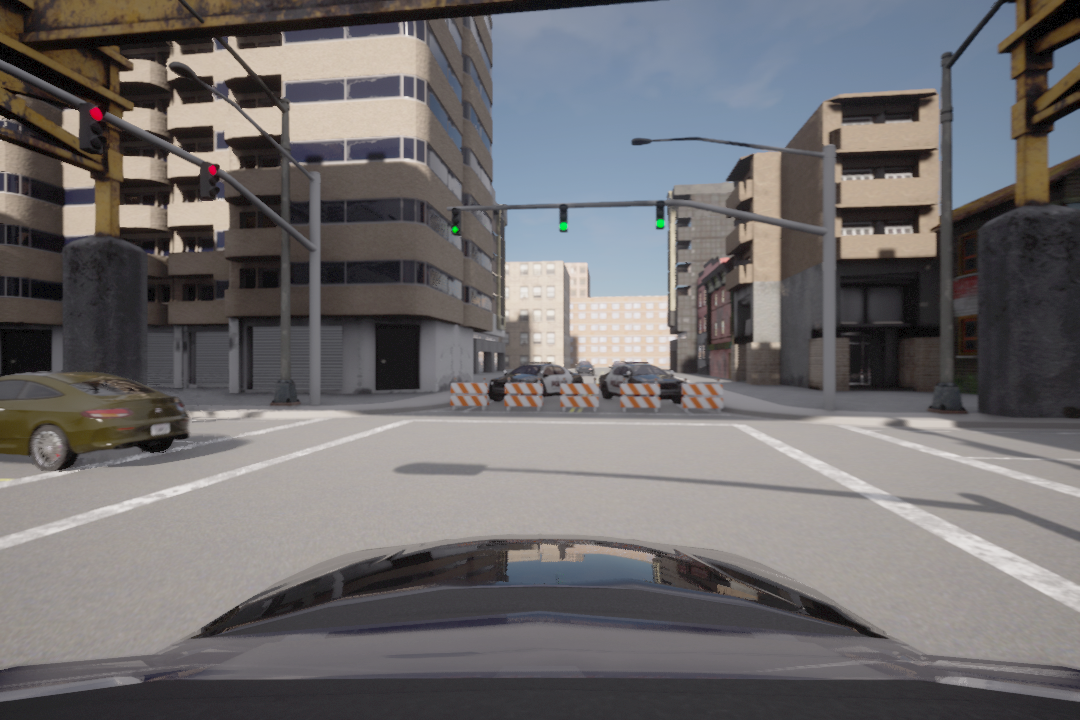TrafficLight: (81, 99, 105, 151), (197, 155, 219, 202), (555, 201, 572, 232), (446, 207, 462, 237), (654, 201, 668, 232)
